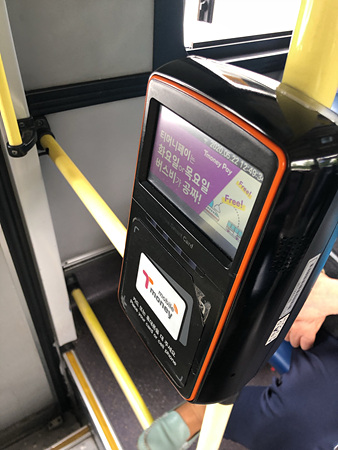terminal: (127, 70, 327, 402)
